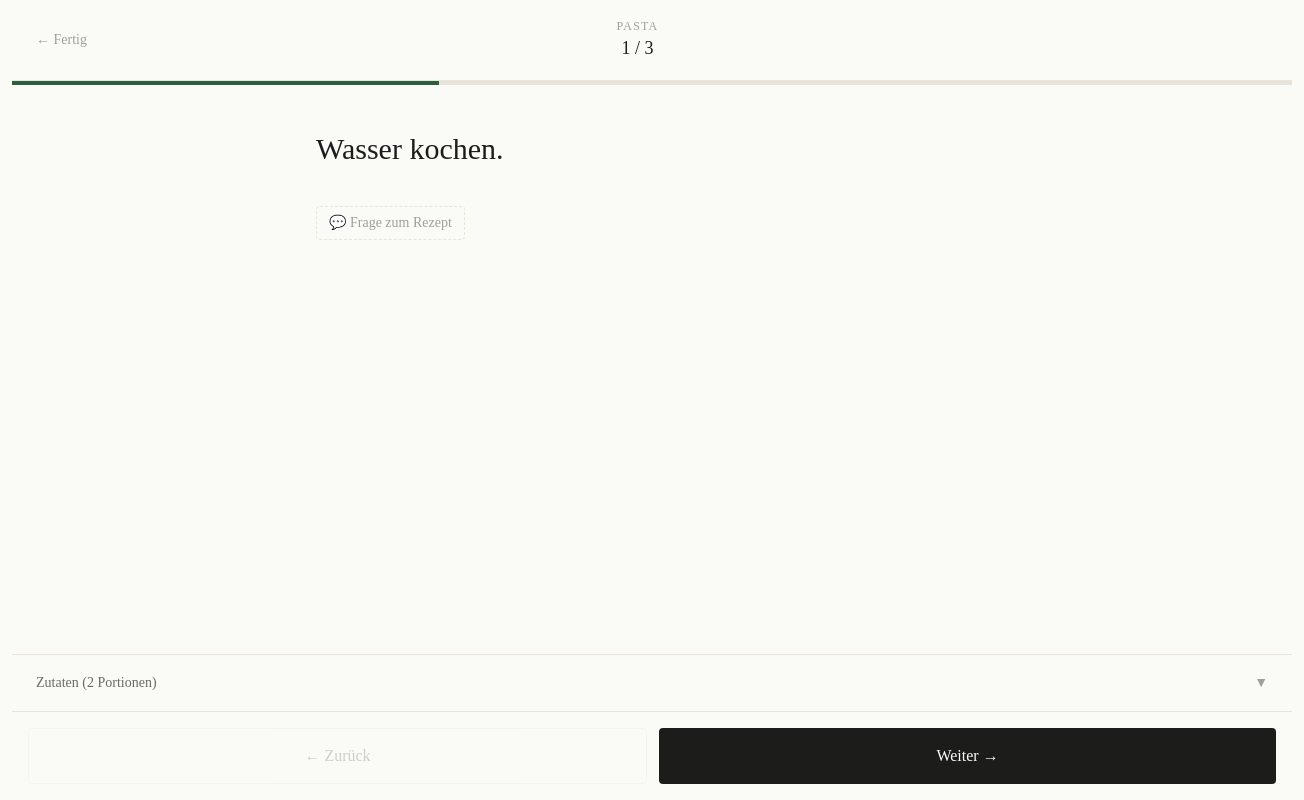
CookMode — persistent timer › keeps the timer running when navigating to a later step
Step 1. Click the button "Weiter →" → (968, 756), box [659,728,1276,784]
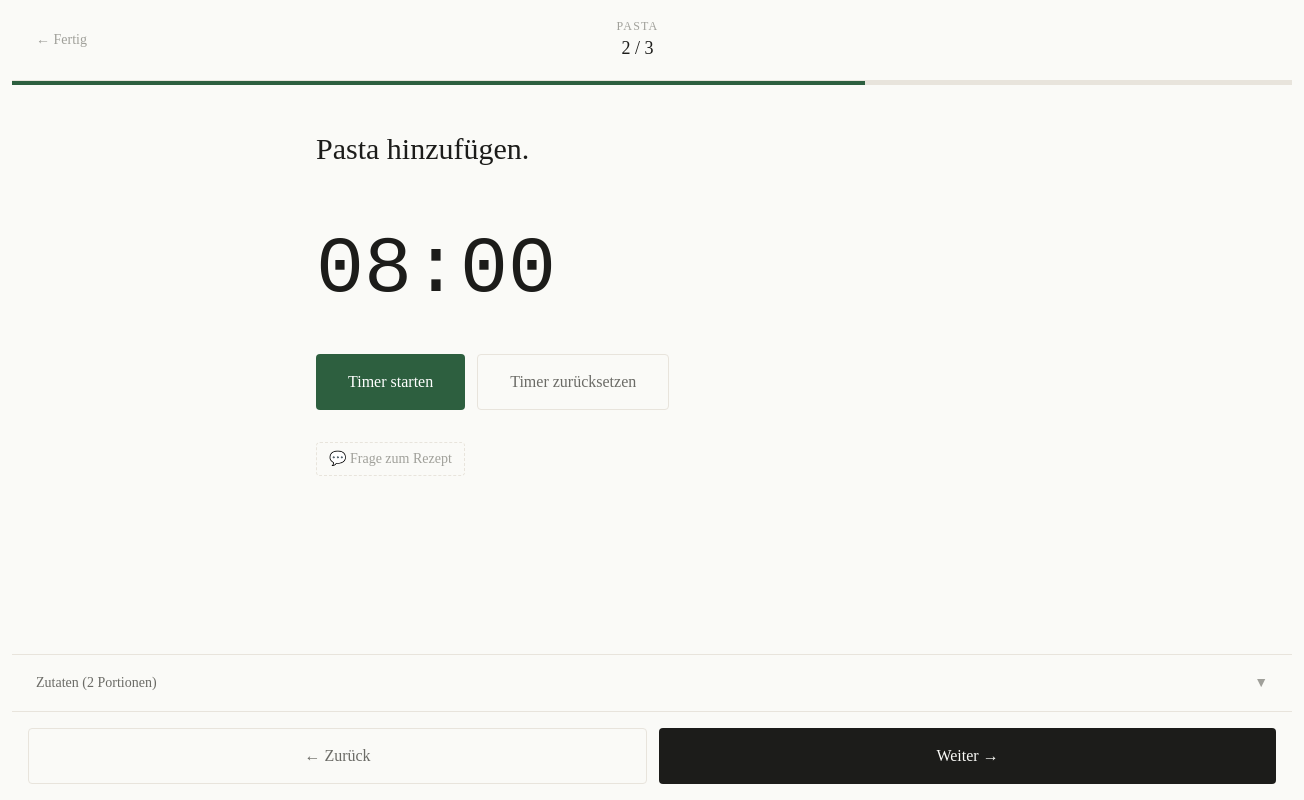
Step 2. Click the button "Timer starten" → (391, 382), box [316,354,465,410]
Wait 5000 ms
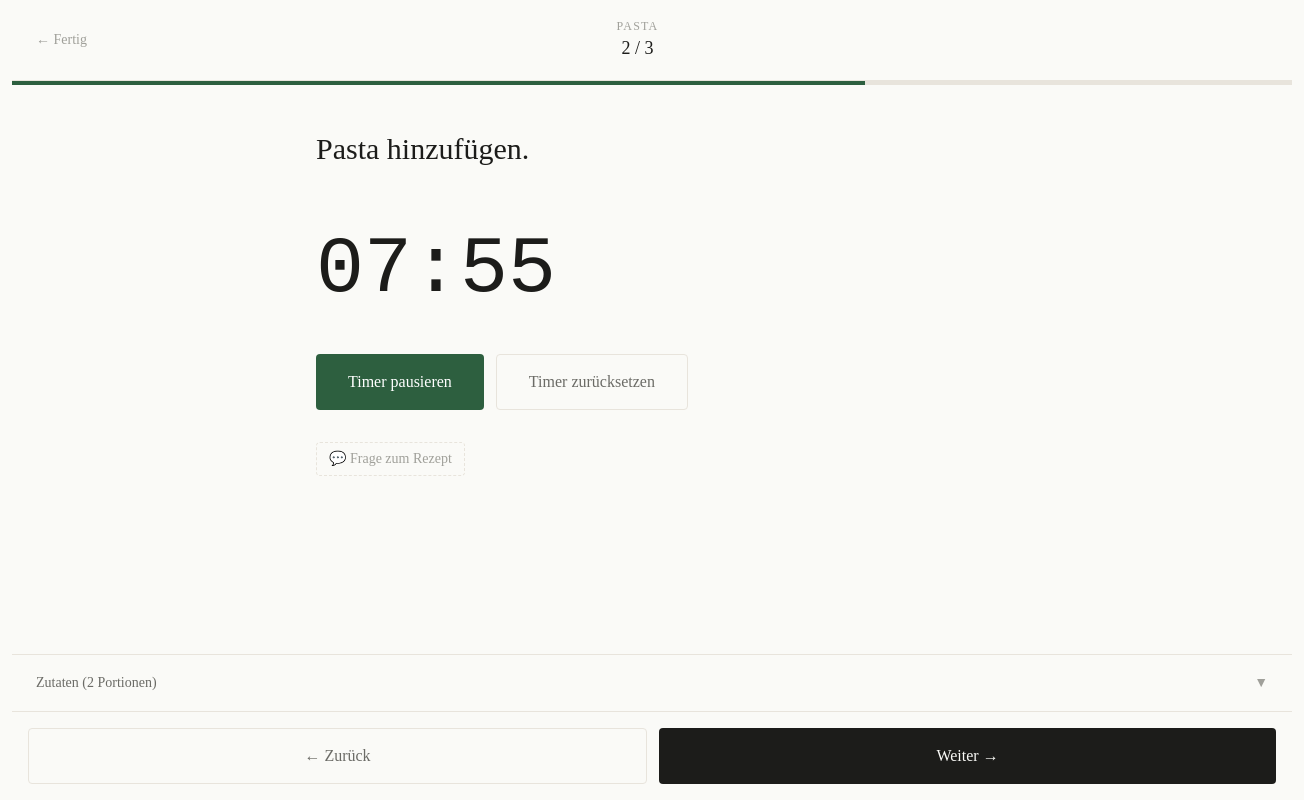
Step 3. Click the button "Weiter →" → (968, 756), box [659,728,1276,784]
Wait 2000 ms
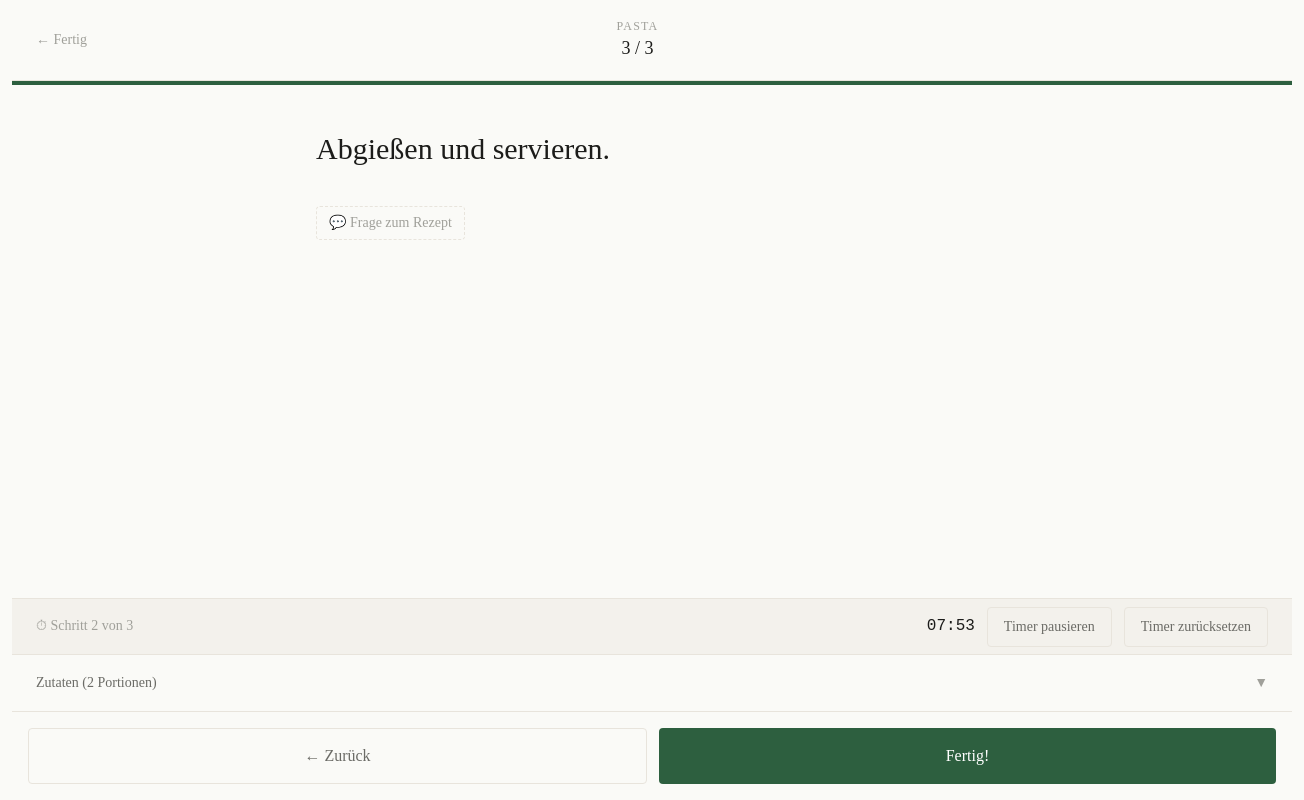
Now the text "⏱ Schritt 2 von 3" is shown, box [36,616,133,636]
Now the text "07:53" is shown, box [927,614,975,639]
